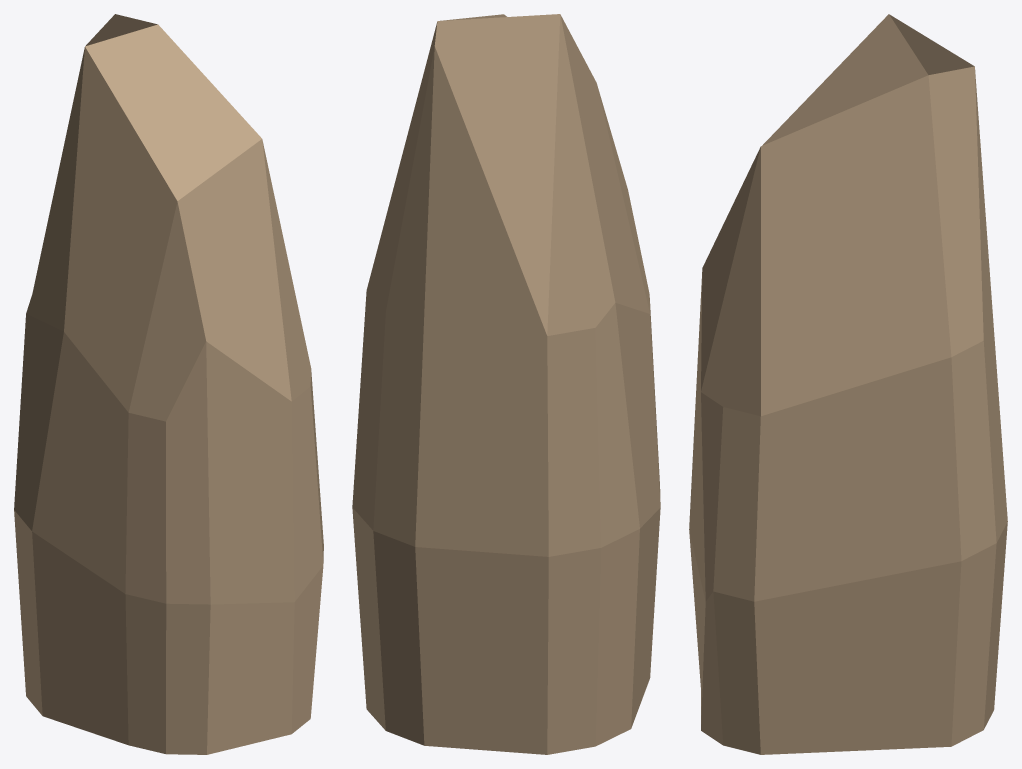
Rendered from rock_3.FBX.
The picture shows the model from 3 angles, left to right: view 1: azimuth 30°, elevation 25°; view 2: azimuth 150°, elevation 25°; view 3: azimuth 270°, elevation 25°; orthographic projection. The views are drawn at different scales.
Parts seen in each view (by area): view 1: rock_3; view 2: rock_3; view 3: rock_3.
Boxes of the visible parts, left/top/right/bottom form: rock_3: left=14, top=14, right=323, bottom=754; rock_3: left=352, top=14, right=660, bottom=754; rock_3: left=689, top=14, right=1007, bottom=754.
Size of the model in its own units: 1092 by 2871 by 1256.
